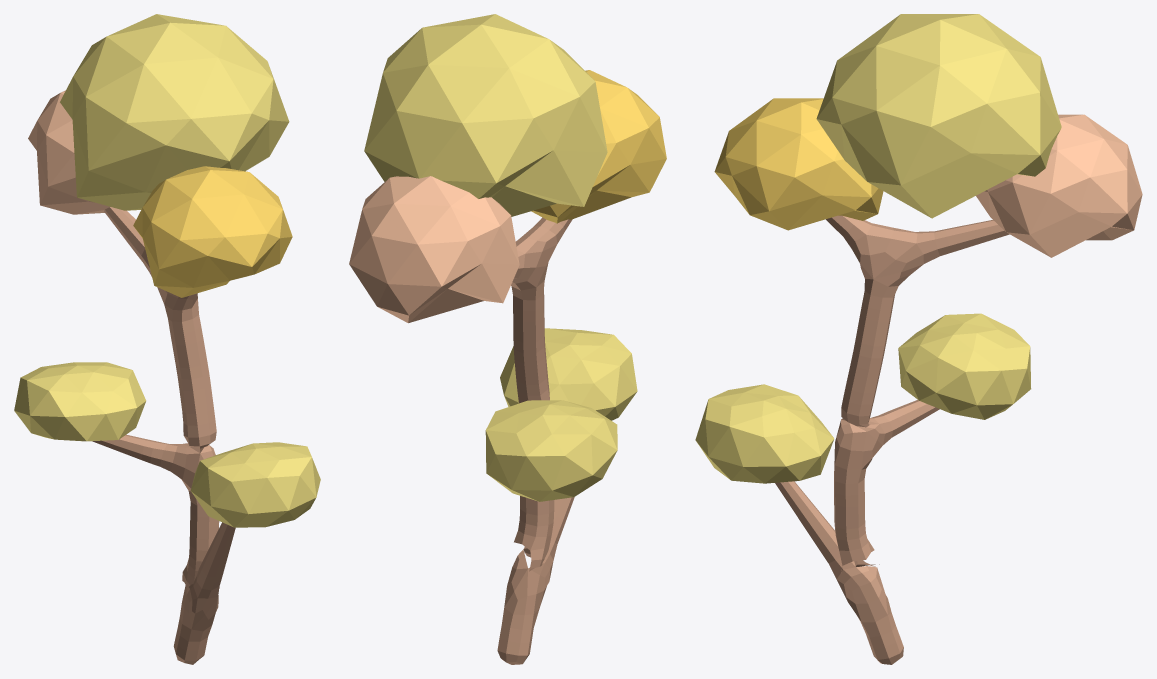
File: tree22.gltf
3 renders of one model, left to right at view 1: azimuth 30°, elevation 25°; view 2: azimuth 150°, elevation 25°; view 3: azimuth 270°, elevation 25°, orthographic. The views are drawn at different scales.
Parts seen in each view (by area): view 1: Icosphere.002, Icosphere, Cube, Icosphere.003, Icosphere.004, Icosphere.001; view 2: Icosphere.002, Icosphere.001, Cube, Icosphere.004, Icosphere, Icosphere.003; view 3: Icosphere.002, Cube, Icosphere, Icosphere.001, Icosphere.004, Icosphere.003.
Part boxes in pixels (<box>): Icosphere.002: <box>60,14,289,210</box>; Icosphere: <box>133,166,292,297</box>; Cube: <box>92,207,235,664</box>; Icosphere.003: <box>190,442,320,527</box>; Icosphere.004: <box>14,362,146,441</box>; Icosphere.001: <box>28,90,110,214</box>; Icosphere.002: <box>364,14,607,216</box>; Icosphere.001: <box>349,176,519,323</box>; Cube: <box>497,217,574,664</box>; Icosphere.004: <box>485,400,617,501</box>; Icosphere: <box>531,70,666,223</box>; Icosphere.003: <box>500,328,637,420</box>; Icosphere.002: <box>816,14,1061,218</box>; Cube: <box>775,215,1009,664</box>; Icosphere: <box>714,98,883,230</box>; Icosphere.001: <box>976,114,1142,257</box>; Icosphere.004: <box>898,313,1031,419</box>; Icosphere.003: <box>695,384,834,483</box>.
Bounding box in the file's own units: 3.16 × 7.97 × 4.99.
